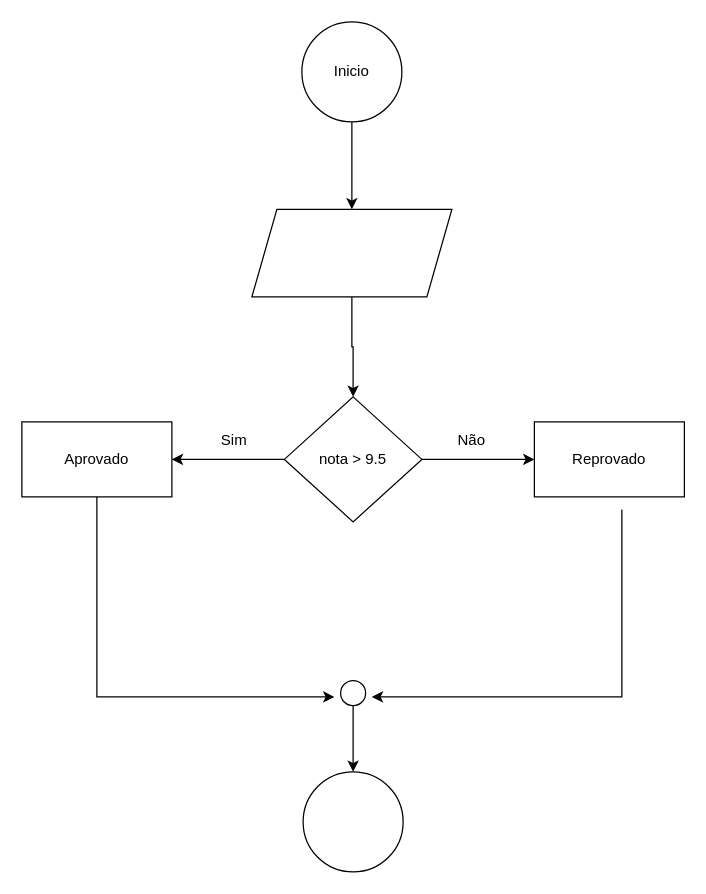
This 706x894 diagram has some shape labels left out. Each missing label, with the centre of its shape:
"end" belongs at (352,821).
"ler nota1" belongs at (351,252).
